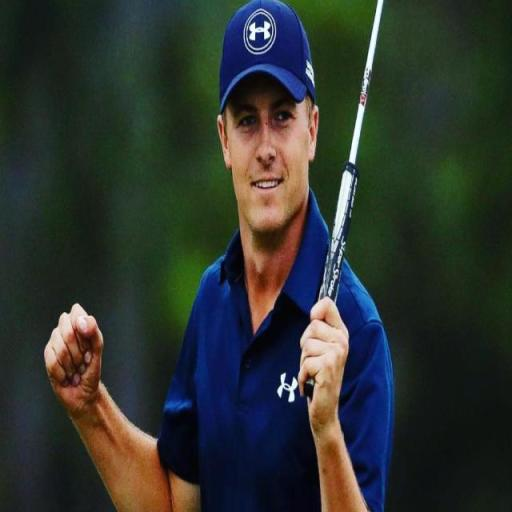Under Armour: (274, 369, 301, 405)
